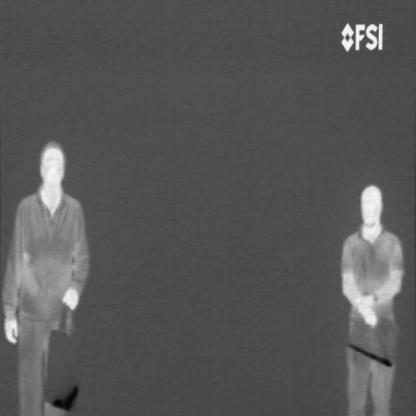weapon: (51, 383, 81, 414)
